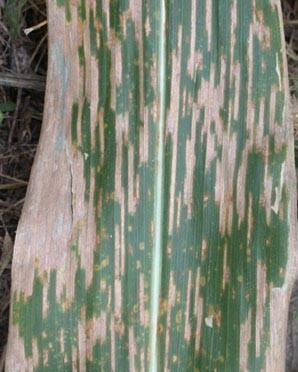Gray_Leaf_Spot: (106, 0, 248, 372), (3, 0, 105, 372), (251, 0, 297, 372)
